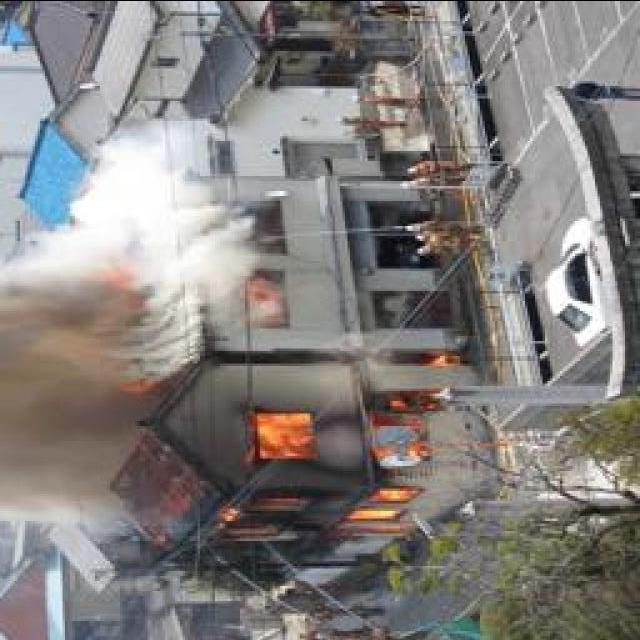Fire: (217, 328, 480, 544)
